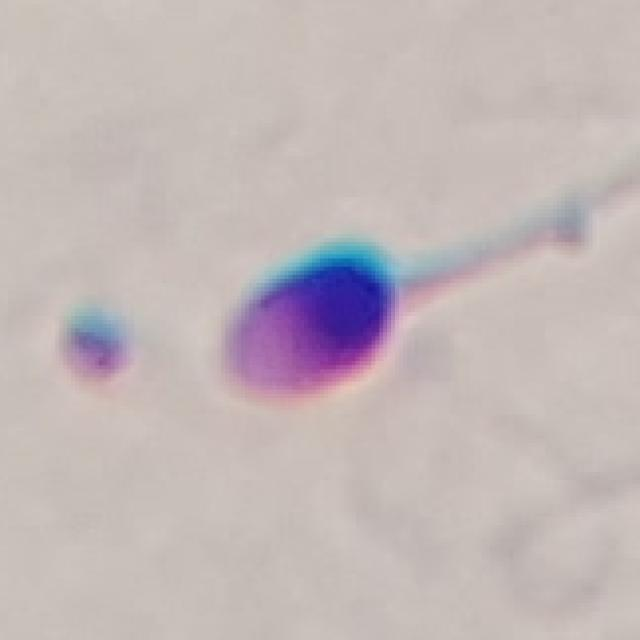normal sperm: (220, 238, 492, 403)
